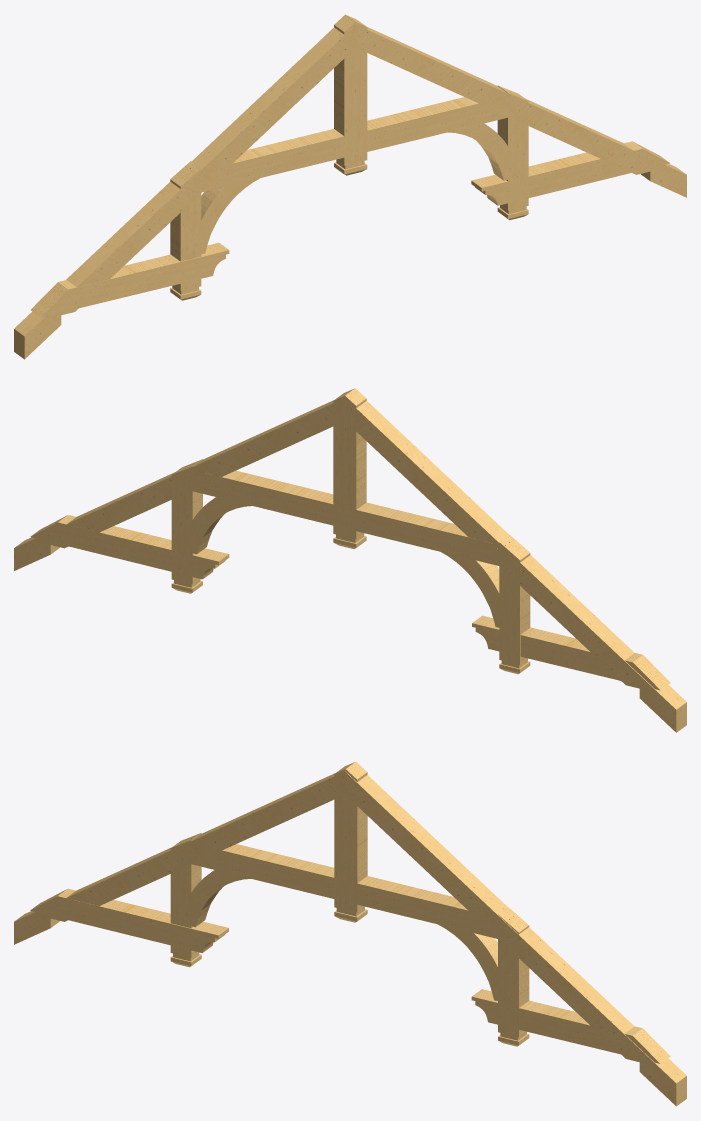
File: hammer16_truss.glb
3 views of the same model, one above another, from view 1: azimuth 30°, elevation 25°; view 2: azimuth 150°, elevation 25°; view 3: azimuth 330°, elevation 25° (orthographic).
Visible parts, largest first — view 1: hammer-truss; view 2: hammer-truss; view 3: hammer-truss.
Boxes of the visible parts, x1,y1,x2,y2 form: hammer-truss: (14, 14, 686, 359); hammer-truss: (14, 388, 686, 732); hammer-truss: (14, 761, 686, 1106).
Size of the model in its own units: 5.5 by 2.03 by 0.1546.
1 material, 1 textured.
